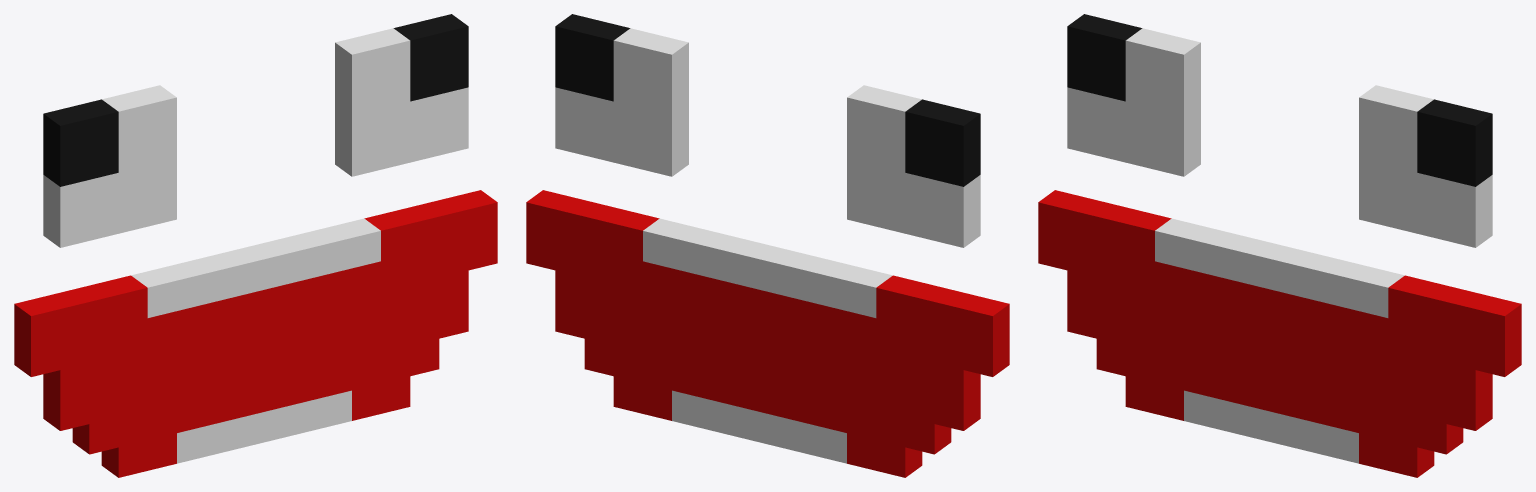
File: StupidMan.obj
3 renders of one model, left to right at view 1: azimuth 30°, elevation 25°; view 2: azimuth 150°, elevation 25°; view 3: azimuth 330°, elevation 25°, orthographic.
Parts seen in each view (by area): view 1: StupidMan; view 2: StupidMan; view 3: StupidMan.
Boxes of the visible parts, left/top/right/bottom form: StupidMan: left=14, top=14, right=497, bottom=477; StupidMan: left=526, top=14, right=1009, bottom=477; StupidMan: left=1038, top=14, right=1521, bottom=477.
Bounding box in the file's own units: 16 × 12 × 1.
Materials: 1 (1 with a texture image).
